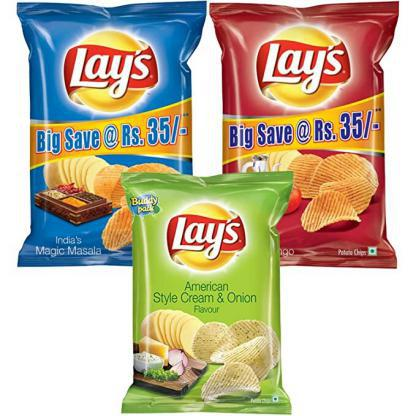cream_and_onion: (121, 171, 292, 413)
indian_magic_masala: (16, 4, 206, 266)
tangy_tomato: (210, 3, 398, 268)
